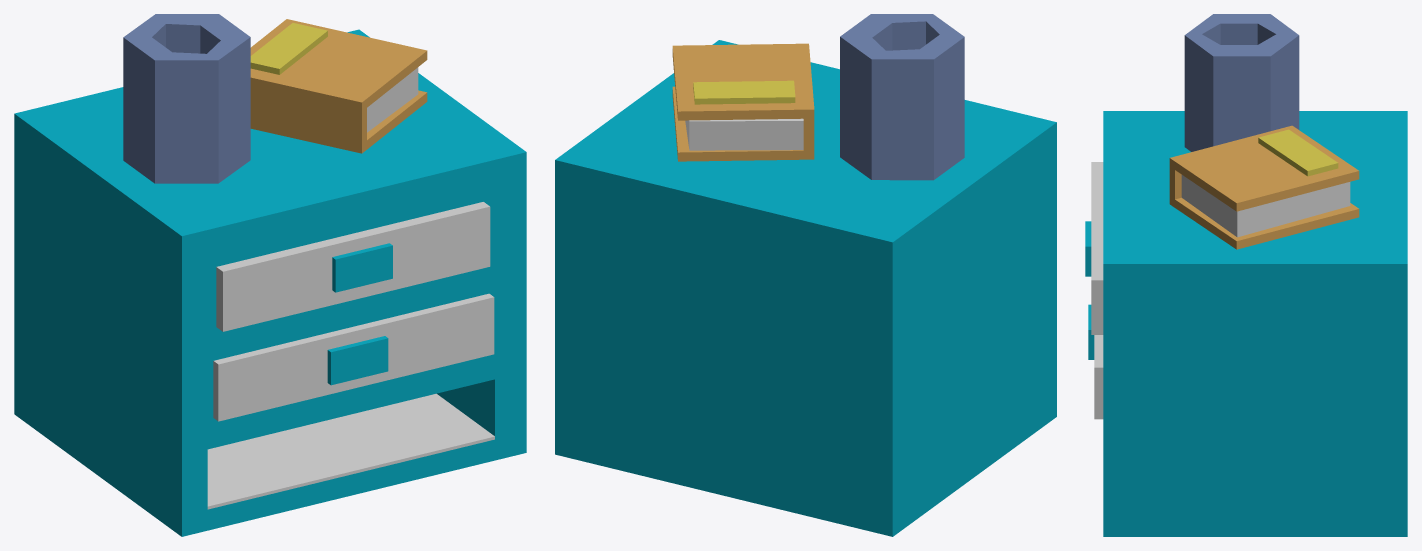
File: C149 Project.glb
The picture shows the model from 3 angles, left to right: view 1: azimuth 30°, elevation 25°; view 2: azimuth 150°, elevation 25°; view 3: azimuth 270°, elevation 25°; orthographic projection. The views are drawn at different scales.
Parts seen in each view (by area): view 1: Mesh_Mesh_head_geo.001_lambert2SG.001; view 2: Mesh_Mesh_head_geo.001_lambert2SG.001; view 3: Mesh_Mesh_head_geo.001_lambert2SG.001.
Boxes of the visible parts, box(x1,y1,x2,y2) form: Mesh_Mesh_head_geo.001_lambert2SG.001: box(14, 14, 526, 536); Mesh_Mesh_head_geo.001_lambert2SG.001: box(555, 14, 1056, 536); Mesh_Mesh_head_geo.001_lambert2SG.001: box(1085, 14, 1407, 536).
Bounding box in the file's own units: 120 × 141 × 107.
